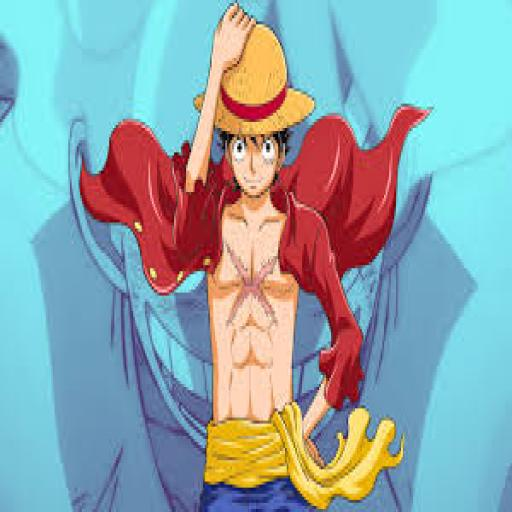Phan-loai-trai-cay: (41, 1, 452, 506)
luffy: (82, 3, 427, 509)
